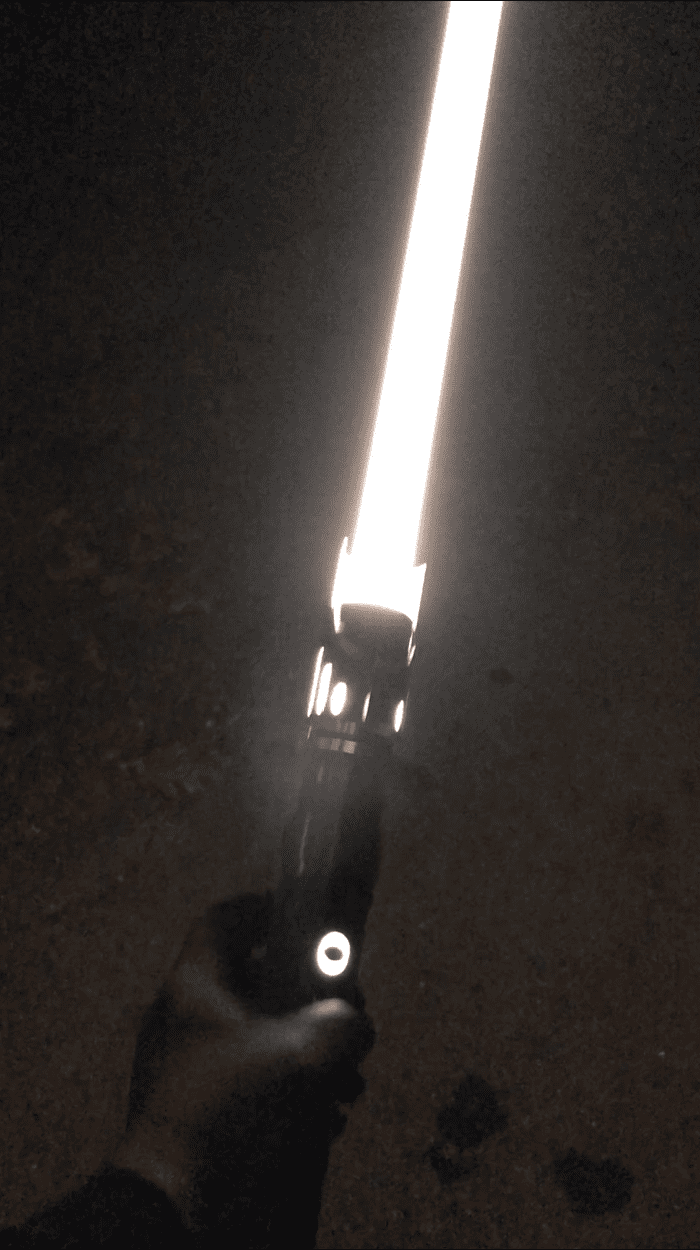lightsaber: (197, 0, 622, 1145)
